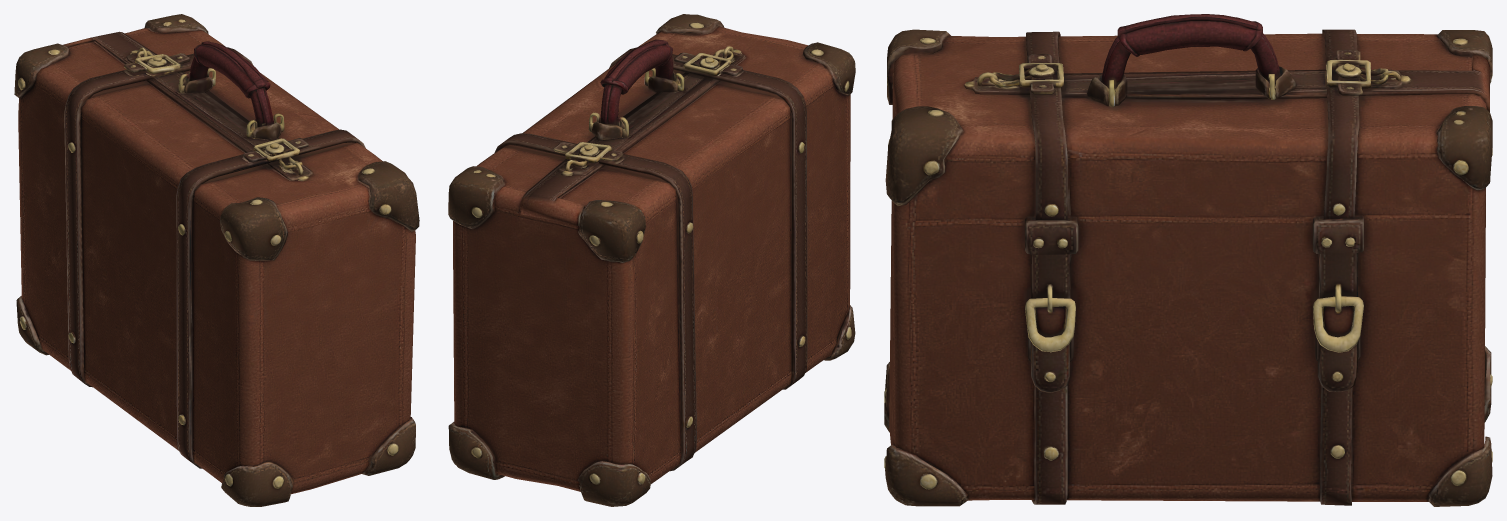
3 renders of one model, left to right at view 1: azimuth 30°, elevation 25°; view 2: azimuth 150°, elevation 25°; view 3: azimuth 270°, elevation 25°, orthographic. The views are drawn at different scales.
Parts seen in each view (by area): view 1: tripo_node_db92e5ee-a56c-42fe-9675-cfb13a835ddd; view 2: tripo_node_db92e5ee-a56c-42fe-9675-cfb13a835ddd; view 3: tripo_node_db92e5ee-a56c-42fe-9675-cfb13a835ddd.
Part boxes in pixels (bbox=[...]): tripo_node_db92e5ee-a56c-42fe-9675-cfb13a835ddd: bbox=[14, 14, 419, 506]; tripo_node_db92e5ee-a56c-42fe-9675-cfb13a835ddd: bbox=[448, 14, 855, 506]; tripo_node_db92e5ee-a56c-42fe-9675-cfb13a835ddd: bbox=[884, 14, 1492, 506].
Bounding box in the file's own units: 0.5176 × 0.834 × 0.998.
Materials: 1 (1 with a texture image).
